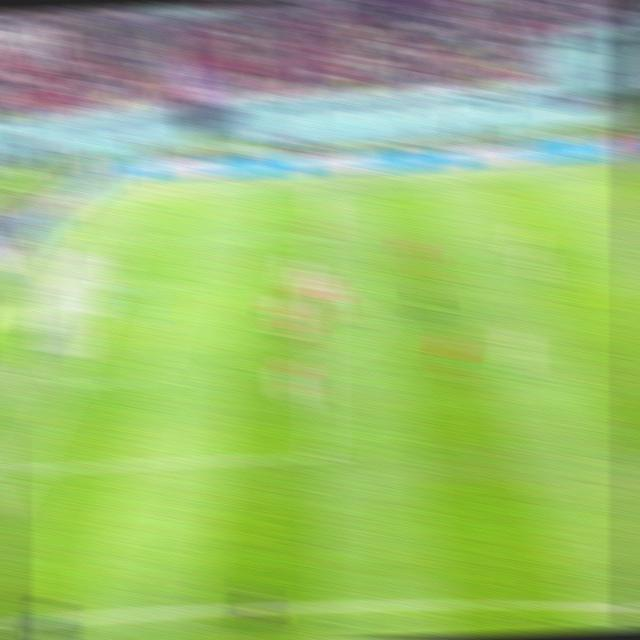bigarea_bottom_inner: (301, 442, 338, 468)
bigarea_bottom_outter: (8, 457, 40, 481)
bigarea_top_inner: (303, 226, 333, 246)
bigarea_top_outter: (115, 232, 145, 250)
bottom_arc_area_intersection: (304, 352, 336, 376)
corner: (134, 190, 164, 206)
smallarea_bottom_inner: (133, 362, 167, 392)
smallarea_bottom_outter: (47, 368, 81, 396)
smallarea_top_inner: (162, 272, 194, 294)
smallarea_top_outter: (94, 272, 124, 294)
